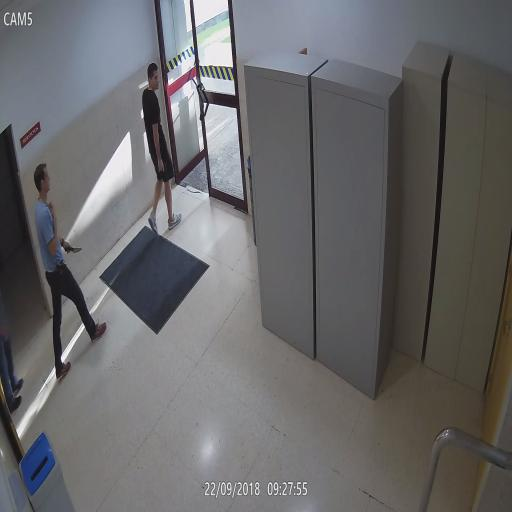Handgun: (55, 261, 69, 286), (157, 159, 169, 177)
